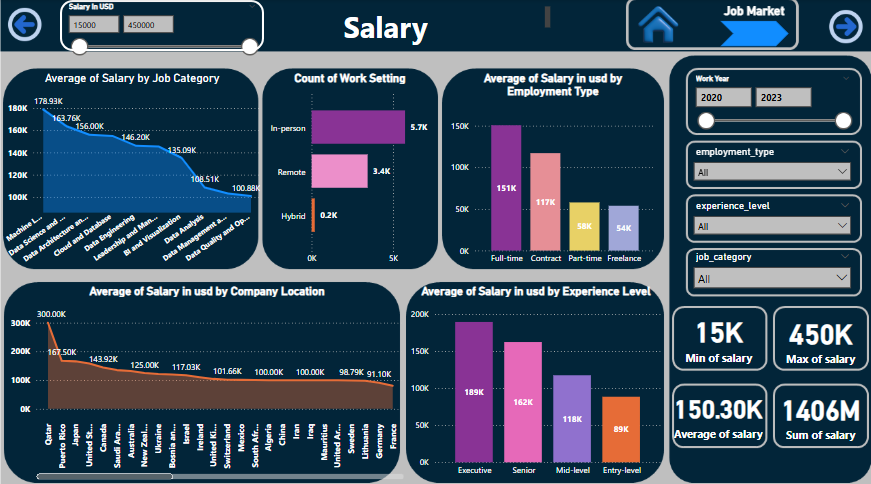

This screenshot's page, from the dashboard's own definition file:
{"tool":"powerbi","page":{"name":"Salary Analysis","canvas":[1280,720],"ordinal":1},"visuals":[{"type":"image","box":[0,0,73.5,74.9],"z":0},{"type":"clusteredColumnChart","title":"Average of Salary in usd by Experience Level","fields":{"Y":["Avg(jobs_in_data.salary_in_usd)"],"Category":["jobs_in_data.experience_level"]},"box":[598,418.8,379.1,292.4],"z":1000},{"type":"stackedAreaChart","title":"Average of Salary by Job Category","fields":{"Category":["jobs_in_data.job_category"],"Y":["Avg(jobs_in_data.salary_in_usd)"]},"box":[0,105.8,387.9,292.4],"z":2000},{"type":"stackedAreaChart","title":"Average of Salary in usd by Company Location","fields":{"Category":["jobs_in_data.company_location"],"Y":["Avg(jobs_in_data.salary_in_usd)"]},"box":[10.3,418.8,587.8,292.4],"z":3000},{"type":"card","title":"Count of Employee","fields":{"Values":["Sum(jobs_in_data.salary_in_usd)"]},"box":[1135.8,565.7,144,89.6],"z":4000},{"type":"card","title":"Count of Employee","fields":{"Values":["Avg(jobs_in_data.salary_in_usd)"]},"box":[988.9,565.7,136.7,89.6],"z":5000},{"type":"card","title":"Count of Employee","fields":{"Values":["Max(jobs_in_data.salary_in_usd)"]},"box":[1135.8,454,144,89.6],"z":6000},{"type":"card","title":"Count of Employee","fields":{"Values":["Min(jobs_in_data.salary_in_usd)"]},"box":[990.4,449.6,135.2,94],"z":7000},{"type":"slicer","fields":{"Values":["jobs_in_data.work_year"]},"box":[1009.5,105.8,251.3,89.6],"z":8000},{"type":"slicer","fields":{"Values":["jobs_in_data.job_category"]},"box":[1009.5,365.9,251.3,66.1],"z":9000},{"type":"slicer","fields":{"Values":["jobs_in_data.experience_level"]},"box":[1009.5,290.9,251.3,64.7],"z":10000},{"type":"slicer","fields":{"Values":["jobs_in_data.employment_type"]},"box":[1009.5,211.6,251.3,64.7],"z":11000},{"type":"clusteredColumnChart","title":"Average of Salary in usd by Employment Type","fields":{"Y":["Avg(jobs_in_data.salary_in_usd)"],"Category":["jobs_in_data.employment_type"]},"box":[656.8,105.8,311.5,293.9],"z":12000},{"type":"barChart","title":"Count of Work Setting","fields":{"Category":["jobs_in_data.work_setting"],"Y":["CountNonNull(jobs_in_data.work_setting)"]},"box":[387.9,105.8,252.7,293.9],"z":13000},{"type":"image","box":[1206.7,0,73.3,80],"z":14000},{"type":"image","box":[925.7,0,83.8,74.9],"z":15000},{"type":"shape","title":"Job Market","box":[1058,5.9,101.4,64],"z":16000},{"type":"textbox","box":[499.6,5.9,314.4,69.1],"z":17000},{"type":"slicer","fields":{"Values":["jobs_in_data.salary_in_usd"]},"box":[88.2,0,299.8,85.2],"z":18000},{"type":"shape","box":[88.2,1.5,299.8,74.9],"z":19000}]}

Visuals, with their boxes in screenshot pixels (x1, y1, x2, y2), scaled from the page's 1280x720 canvas onto the 871x484 screenshot:
image: <box>0,0,50,50</box>
"Average of Salary in usd by Experience Level" clusteredColumnChart: <box>407,282,665,478</box>
"Average of Salary by Job Category" stackedAreaChart: <box>0,71,264,268</box>
"Average of Salary in usd by Company Location" stackedAreaChart: <box>7,282,407,478</box>
"Count of Employee" card: <box>773,380,870,441</box>
"Count of Employee" card: <box>673,380,766,441</box>
"Count of Employee" card: <box>773,305,870,365</box>
"Count of Employee" card: <box>674,302,766,365</box>
slicer - jobs_in_data.work_year: <box>687,71,858,131</box>
slicer - jobs_in_data.job_category: <box>687,246,858,290</box>
slicer - jobs_in_data.experience_level: <box>687,196,858,239</box>
slicer - jobs_in_data.employment_type: <box>687,142,858,186</box>
"Average of Salary in usd by Employment Type" clusteredColumnChart: <box>447,71,659,269</box>
"Count of Work Setting" barChart: <box>264,71,436,269</box>
image: <box>821,0,870,54</box>
image: <box>630,0,687,50</box>
"Job Market" shape: <box>720,4,789,47</box>
textbox: <box>340,4,554,50</box>
slicer - jobs_in_data.salary_in_usd: <box>60,0,264,57</box>
shape: <box>60,1,264,51</box>
